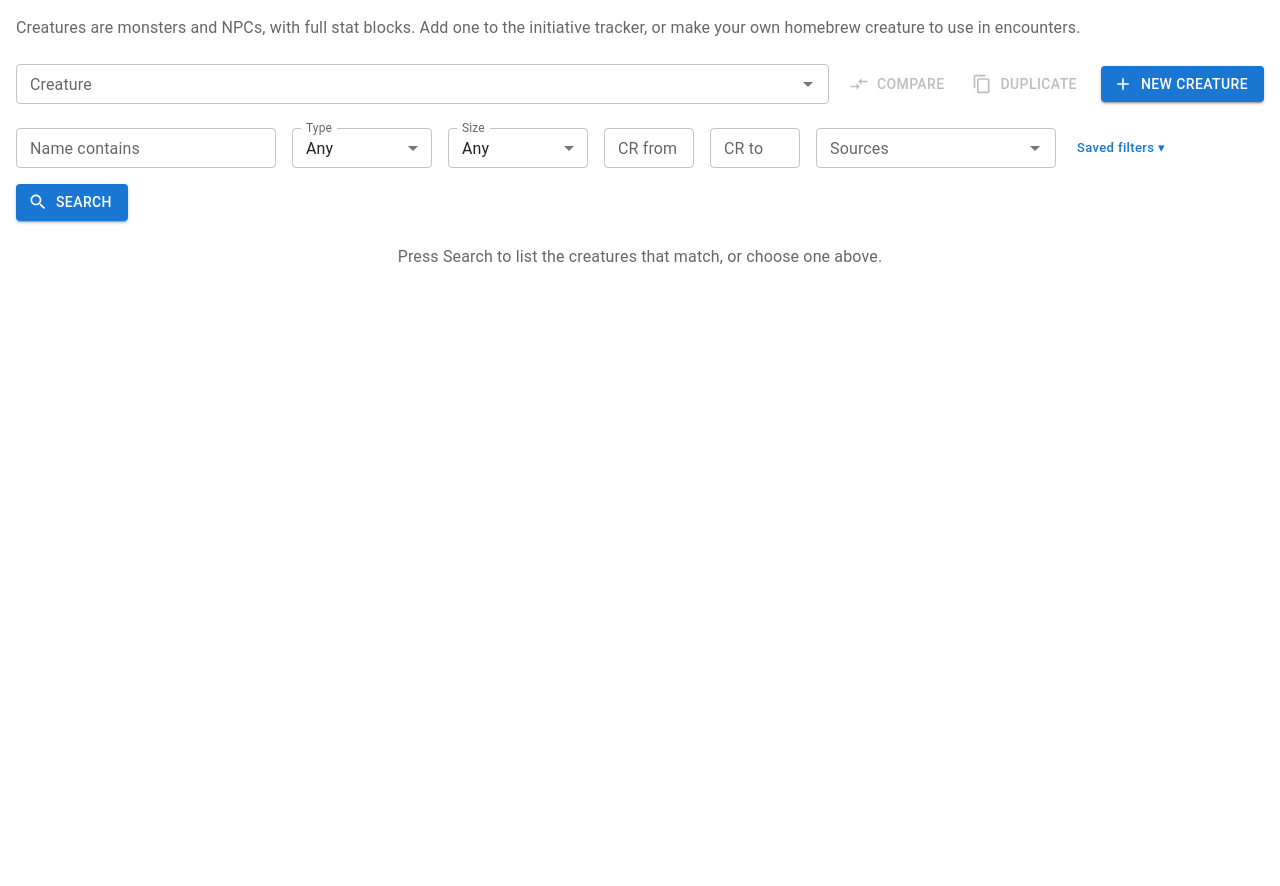
Scenario: changing your own creatures › offers Edit and Delete only for creatures in a document the user owns
Type "Gribble" into the dropdown labelled "Creature" at (406, 84), box x1=22 y1=70 x2=790 y2=98
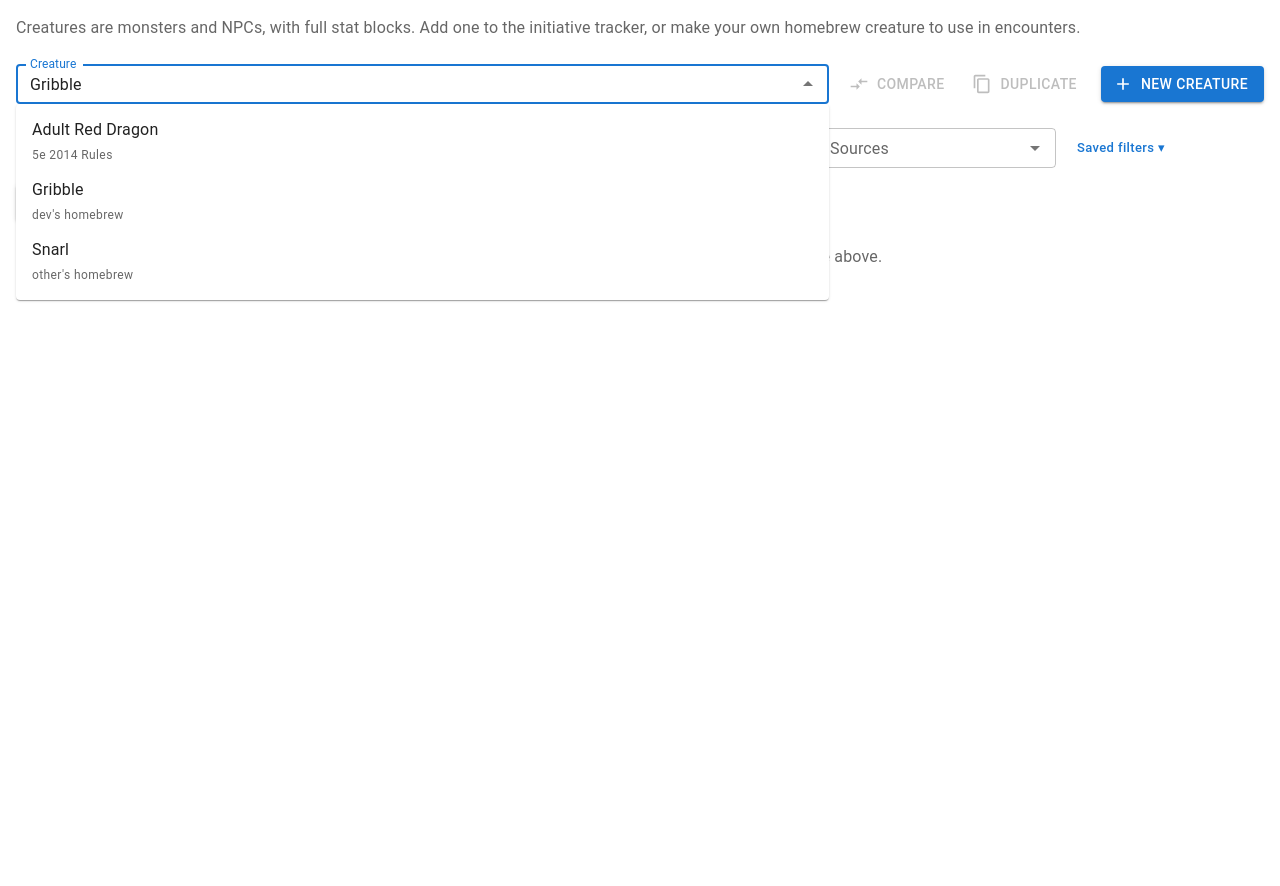
Click the option "Gribble dev's homebrew" at (78, 201), box x1=32 y1=180 x2=124 y2=222
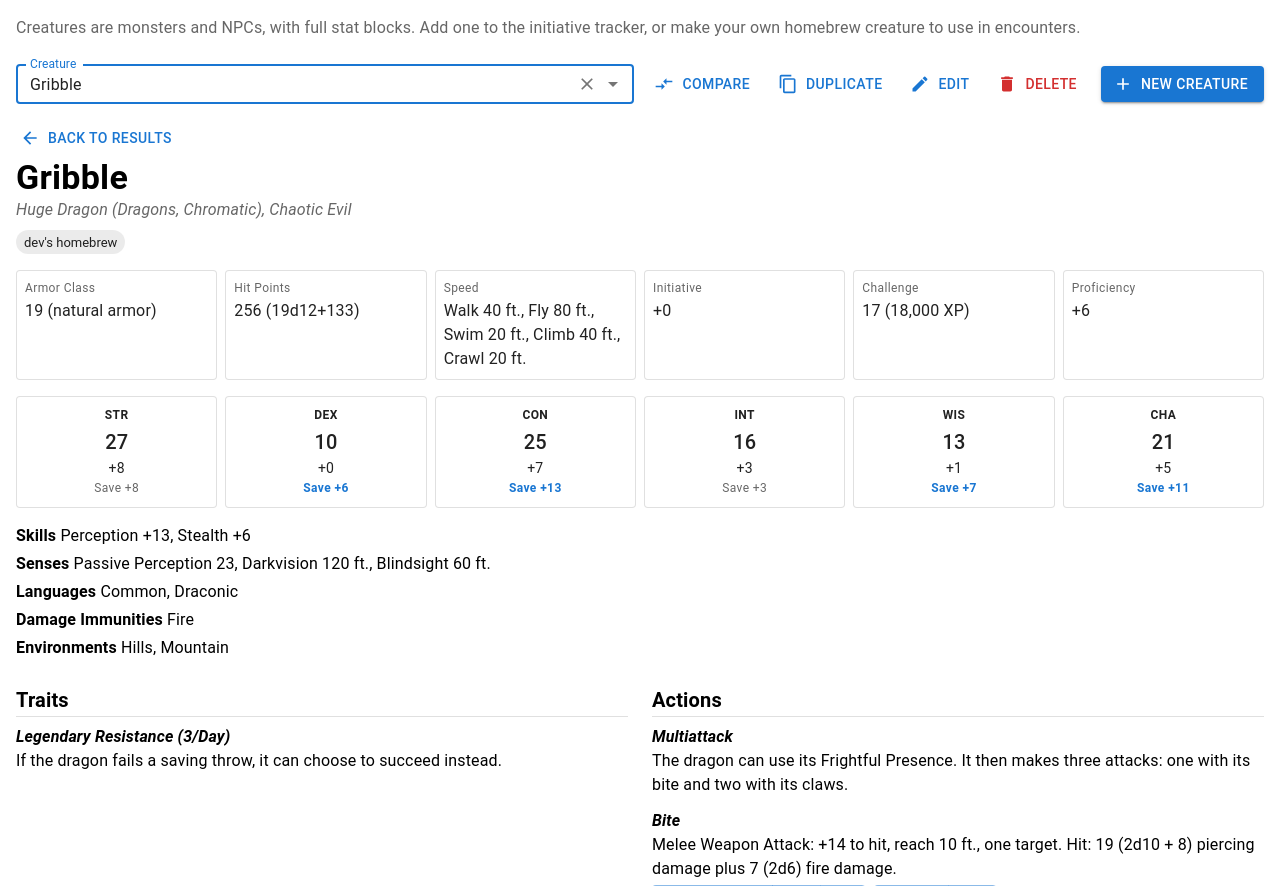
Check: the button "Edit" is shown, box x1=906 y1=66 x2=977 y2=102
Check: the button "Delete" is shown, box x1=993 y1=66 x2=1085 y2=102
Replace the text in the dropdown labelled "Creature" with "Snarl" at (296, 84), box x1=22 y1=70 x2=570 y2=98
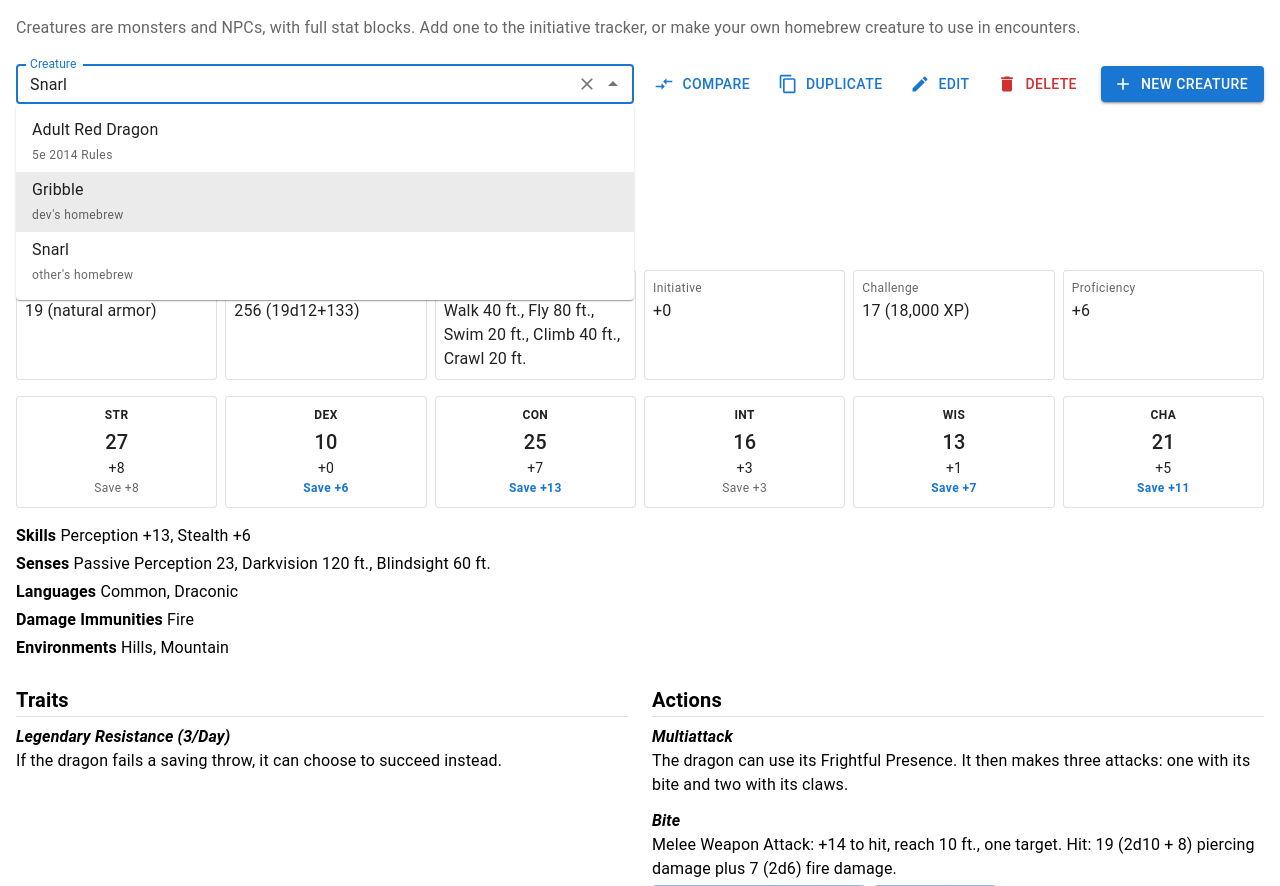
Click the option "Snarl other's homebrew" at (51, 250), box x1=32 y1=240 x2=134 y2=282
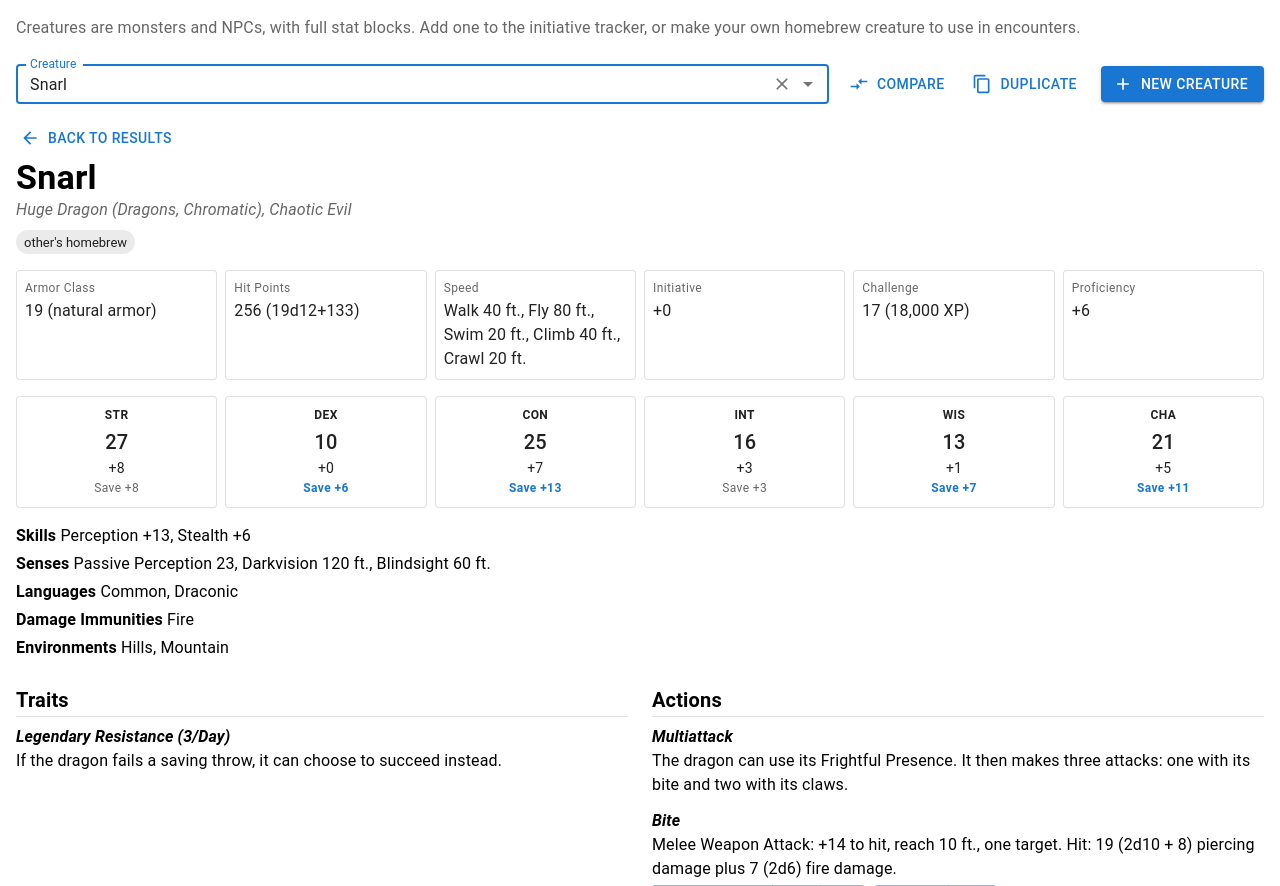
Check: the heading "Snarl" is shown, box x1=16 y1=156 x2=97 y2=196
Check: the button "Edit" is gone
Check: the button "Delete" is gone
Replace the text in the dropdown labelled "Creature" with "Adult Red Dragon" at (393, 84), box x1=22 y1=70 x2=764 y2=98
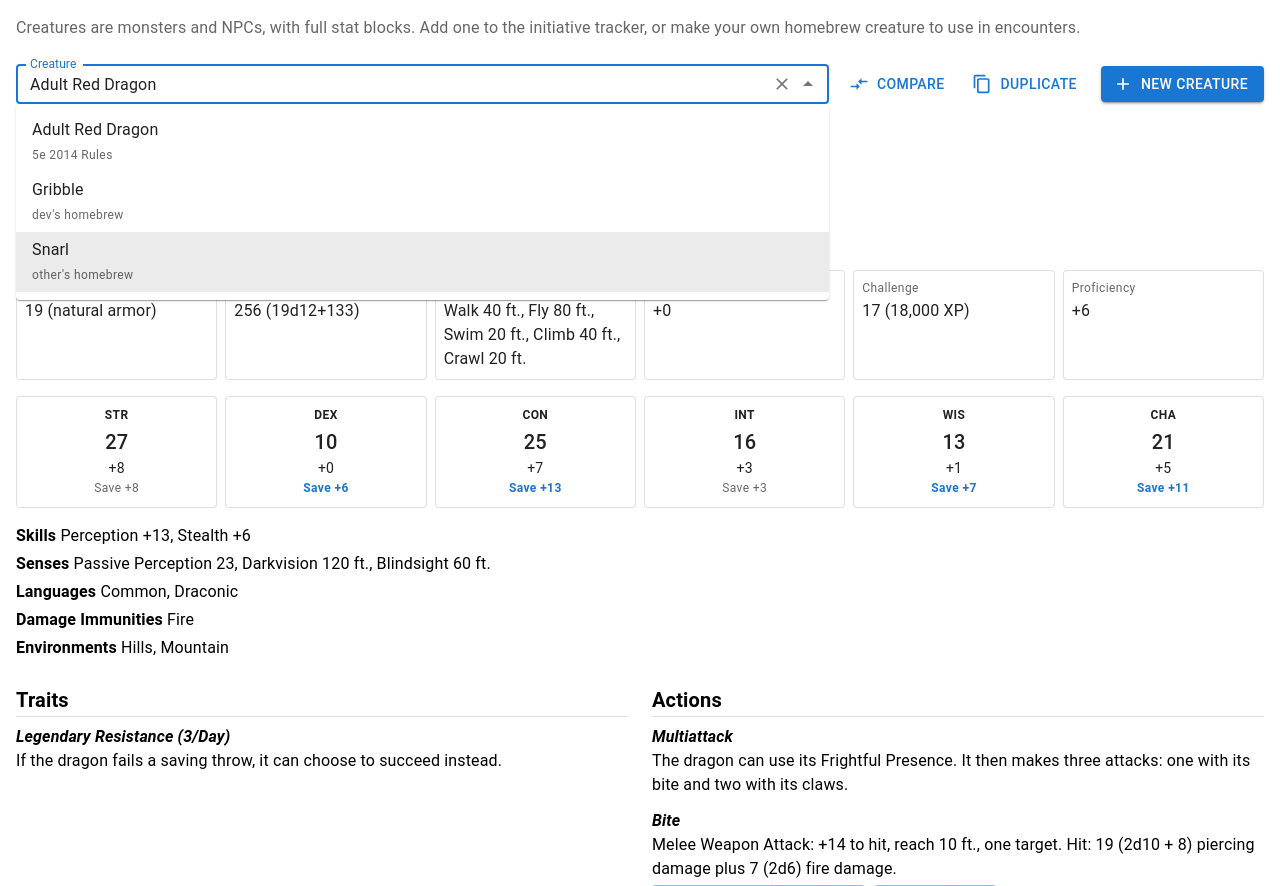
Click the option "Adult Red Dragon 5e 2014 Rules" at (95, 141), box x1=32 y1=120 x2=158 y2=162
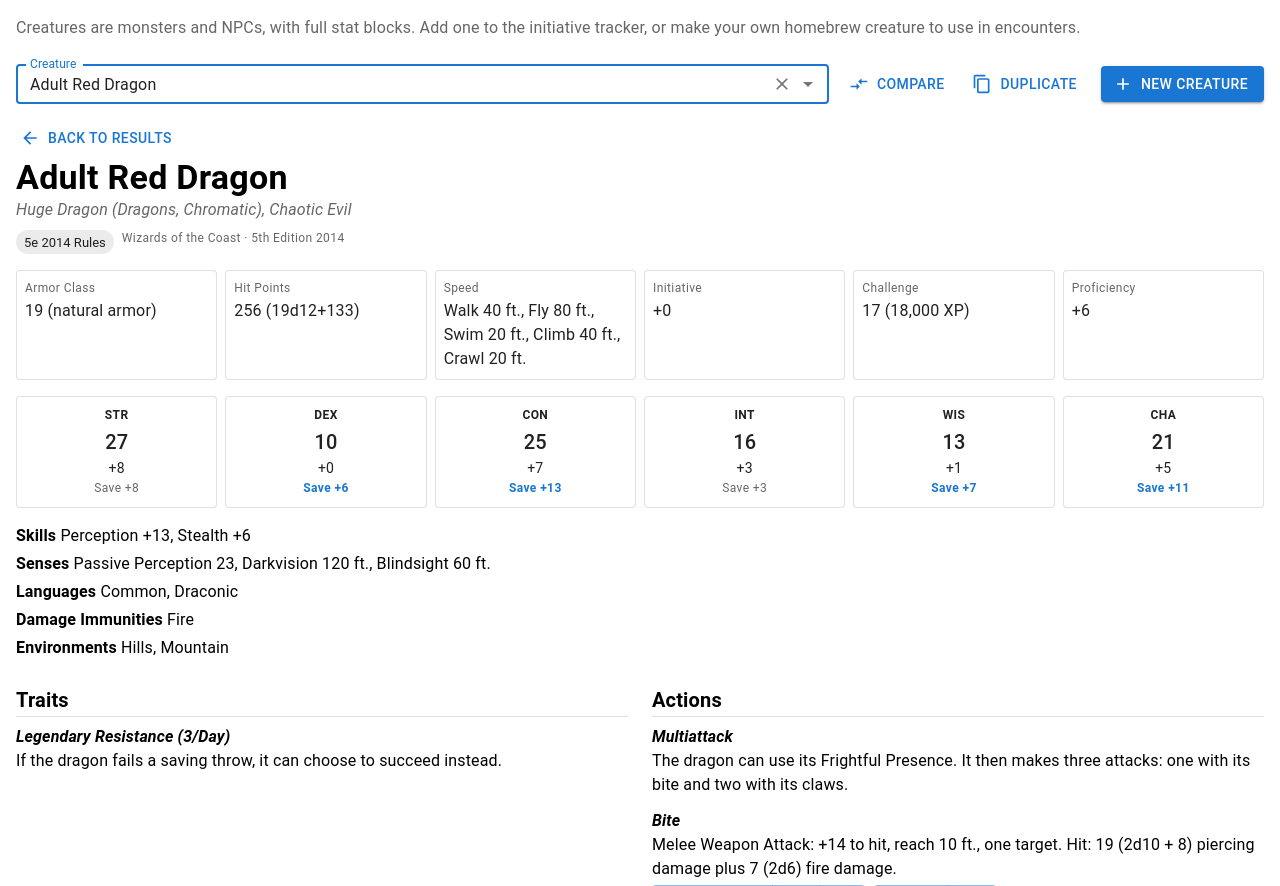
Check: the heading "Adult Red Dragon" is shown, box x1=16 y1=156 x2=288 y2=196
